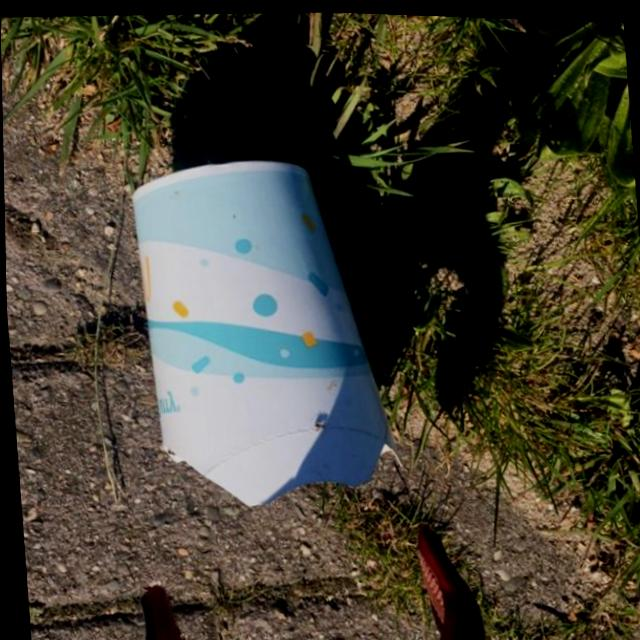Paper: (124, 145, 406, 518)
